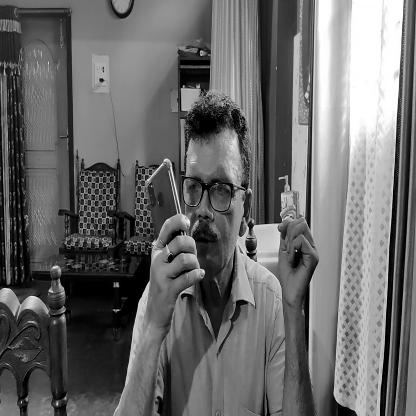Distracted: (187, 103, 246, 269)
